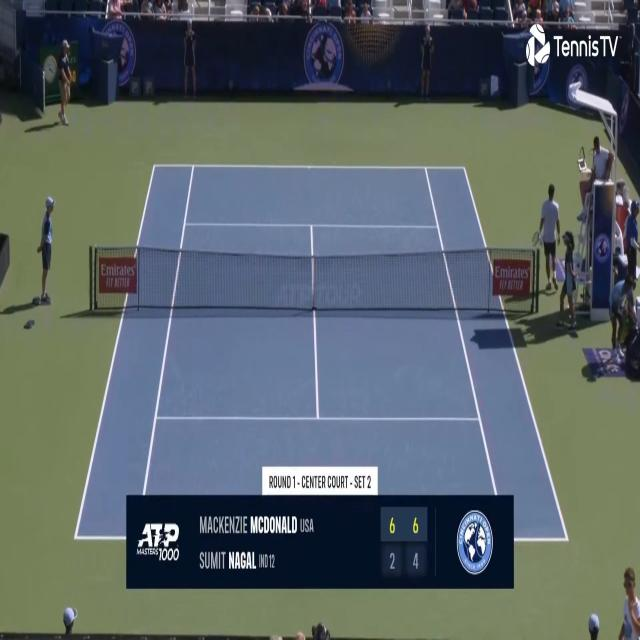tennis-player: (530, 179, 565, 299)
